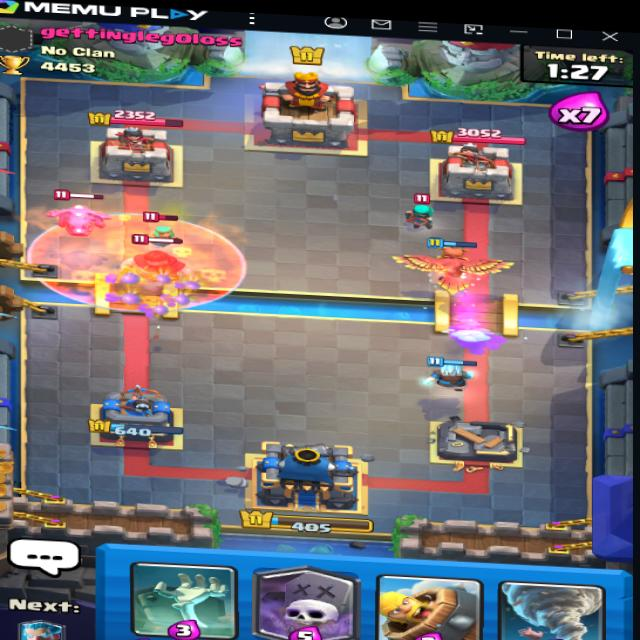Edragon: (43, 186, 114, 245)
Rascalboy: (121, 237, 198, 280)
Rascalgirl: (405, 194, 448, 232), (142, 215, 182, 250)
